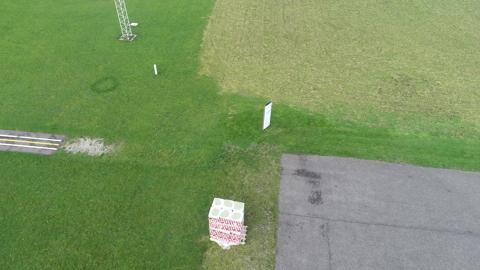RockwoolPallet: (207, 197, 248, 241)
